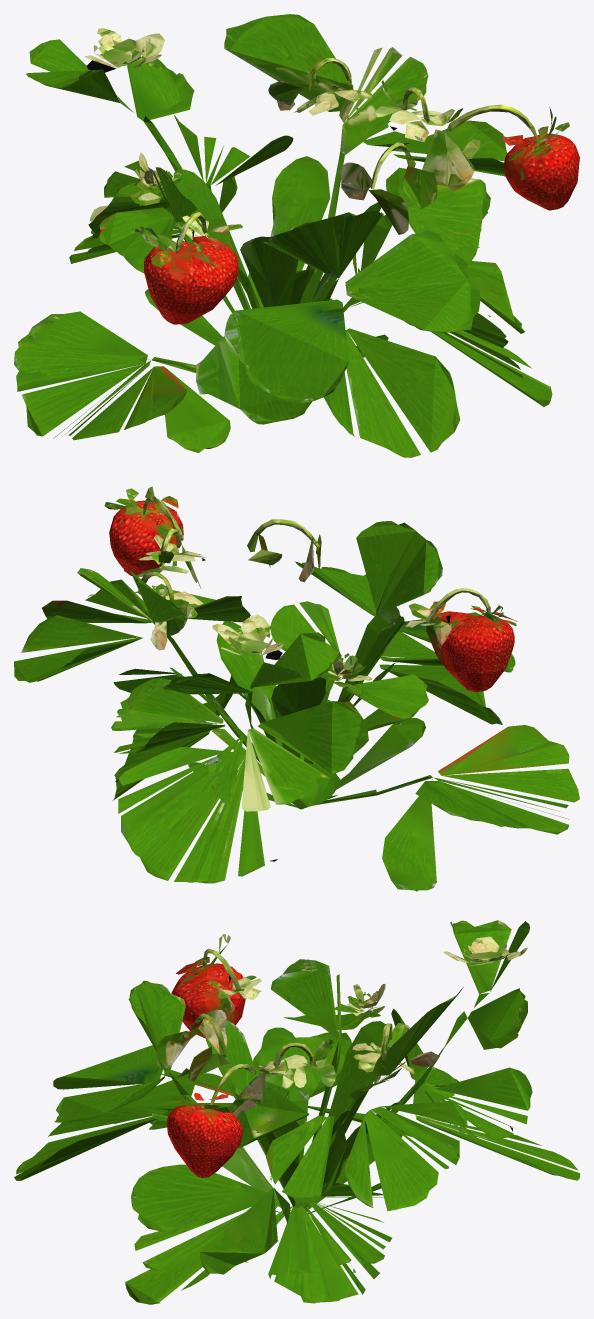
File: strawberry.glb
The picture shows the model from 3 angles, top to bottom: view 1: azimuth 30°, elevation 25°; view 2: azimuth 150°, elevation 25°; view 3: azimuth 270°, elevation 25°; orthographic projection. The views are drawn at different scales.
Parts seen in each view (by area): view 1: world; view 2: world; view 3: world.
Boxes of the visible parts, x1,y1,x2,y2 form: world: (14,14,579,457); world: (14,486,579,891); world: (14,920,579,1304).
Bounding box in the file's own units: 1.86 × 0.9883 × 1.91.
1 material, 1 textured.
